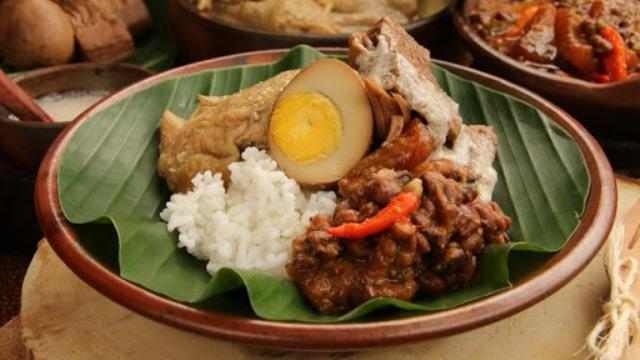gudeg: (158, 16, 513, 312)
